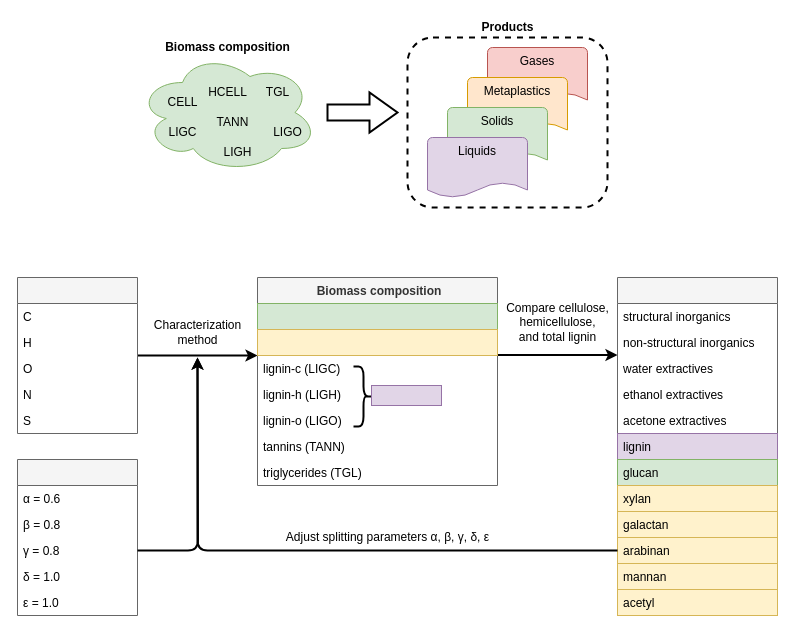
This 795x635 diagram has some shape labels left out. Each missing label, with the box of its shape:
cellulose (CELL): (256, 302, 498, 330)
Chemical analysis: (616, 276, 778, 616)
hemicellulose (GMSW, XYHW, or XYGR): (256, 328, 498, 356)
Splitting parameters: (16, 458, 138, 616)
total lignin: (370, 384, 442, 406)
Ultimate analysis: (16, 276, 138, 434)
